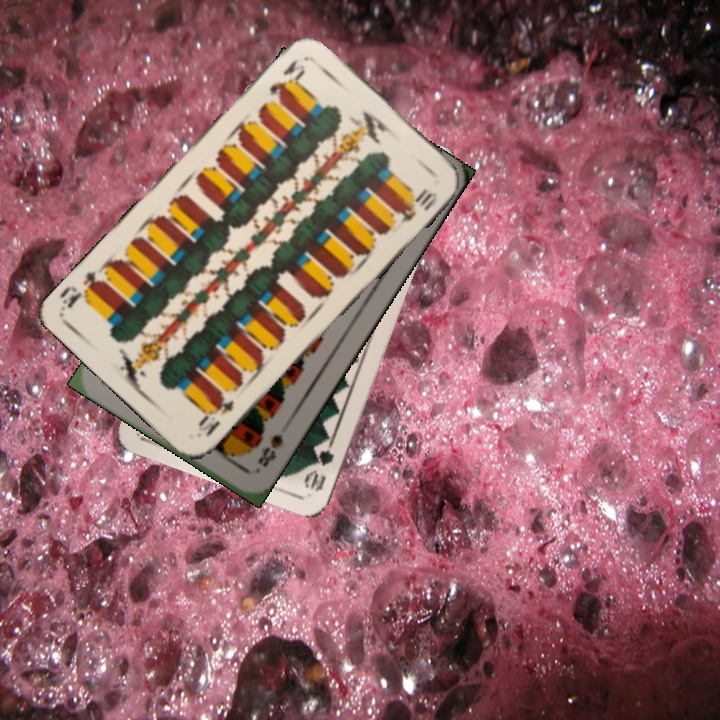E10: (194, 392, 237, 440), (265, 55, 308, 100)
G10: (300, 438, 337, 495)
S8: (253, 429, 286, 470)
